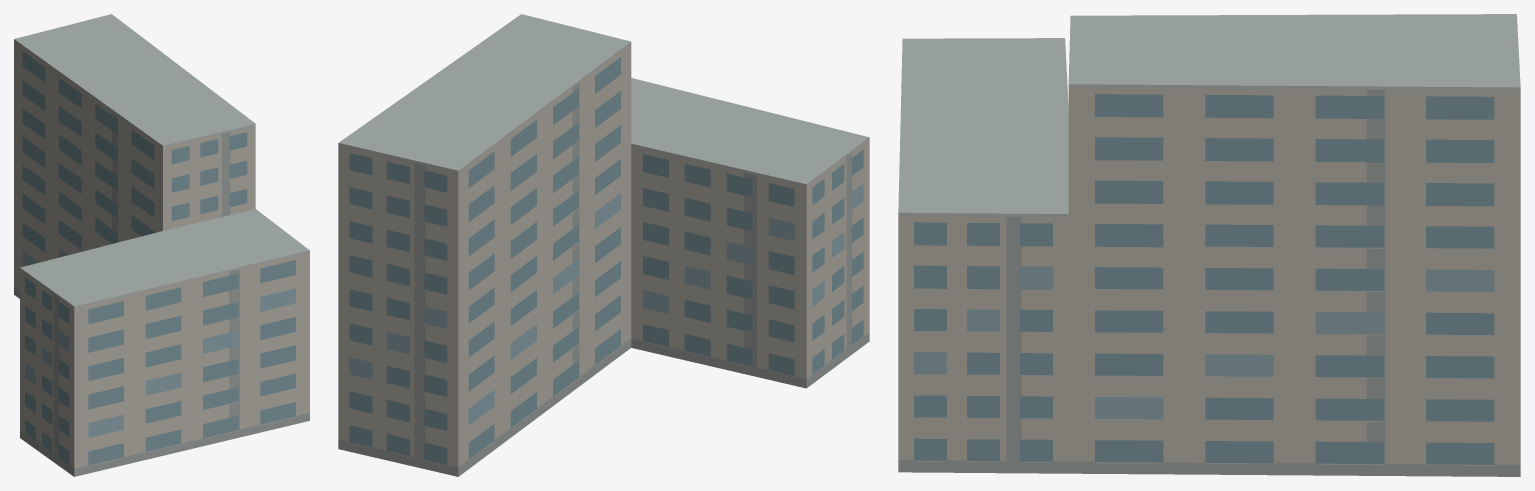
Rendered from residential-0987693d-2ebc-4b20-a0e2-74375e537bf0.glb.
3 views of the same model, side by side, from view 1: azimuth 30°, elevation 25°; view 2: azimuth 150°, elevation 25°; view 3: azimuth 270°, elevation 25° (orthographic). The views are drawn at different scales.
Parts seen in each view (by area): view 1: residential-0987693d-2ebc-4b20-a0e2-74375e537bf0.tmp; view 2: residential-0987693d-2ebc-4b20-a0e2-74375e537bf0.tmp; view 3: residential-0987693d-2ebc-4b20-a0e2-74375e537bf0.tmp.
Boxes of the visible parts, x1,y1,x2,y2 form: residential-0987693d-2ebc-4b20-a0e2-74375e537bf0.tmp: (14, 14, 309, 476); residential-0987693d-2ebc-4b20-a0e2-74375e537bf0.tmp: (338, 14, 869, 476); residential-0987693d-2ebc-4b20-a0e2-74375e537bf0.tmp: (898, 14, 1520, 476).
Bounding box in the file's own units: 27.11 × 27.45 × 39.76.
